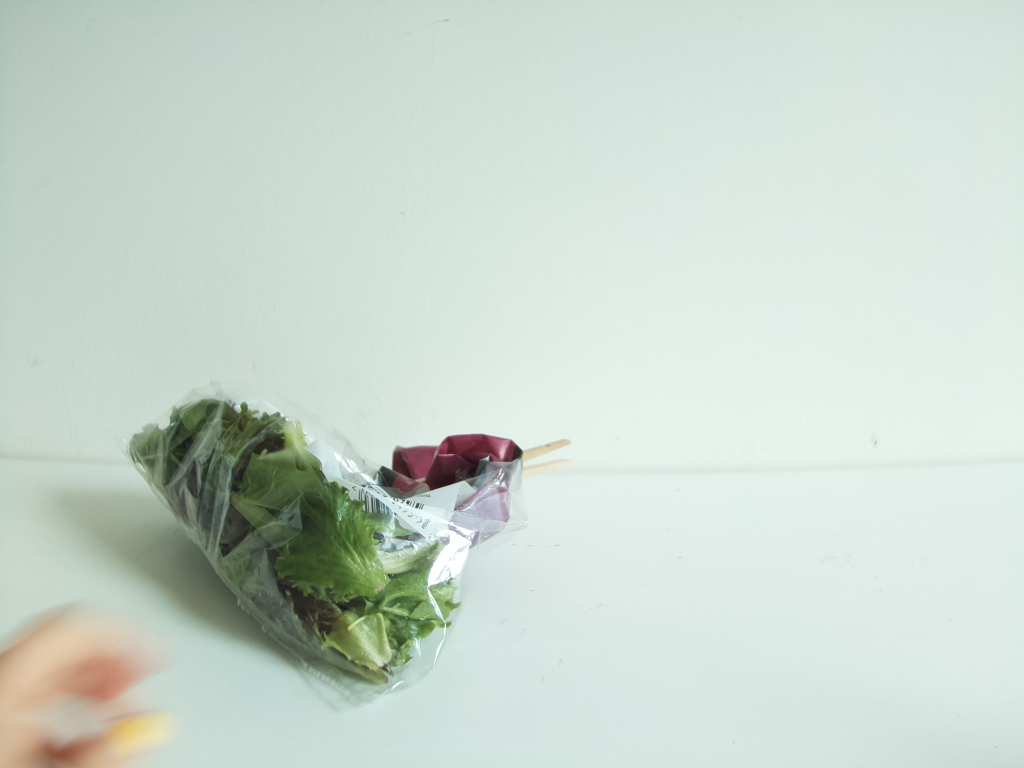salad: (131, 387, 519, 696)
